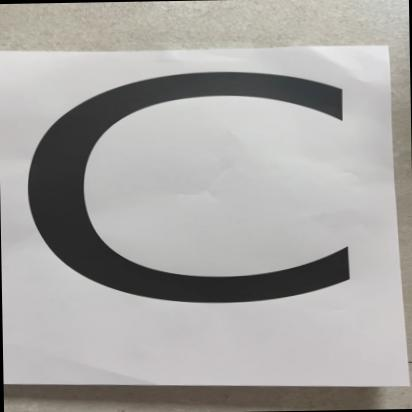seat: (7, 40, 408, 400)
